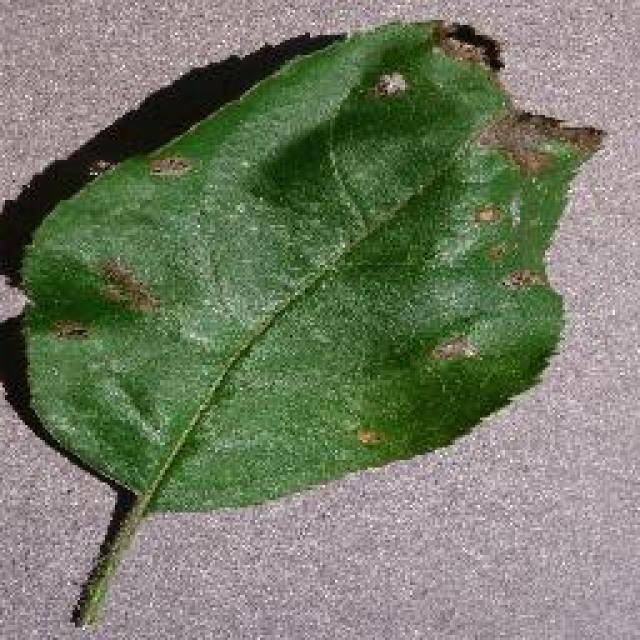apple healthy: (0, 15, 608, 625)
